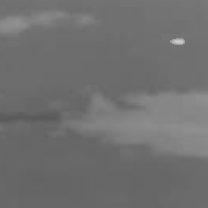Target: (168, 37, 185, 46)
